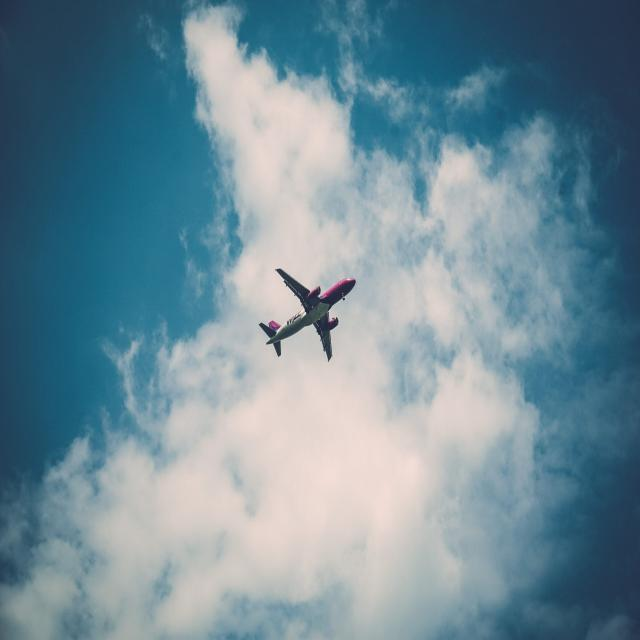plane: (258, 258, 359, 363)
